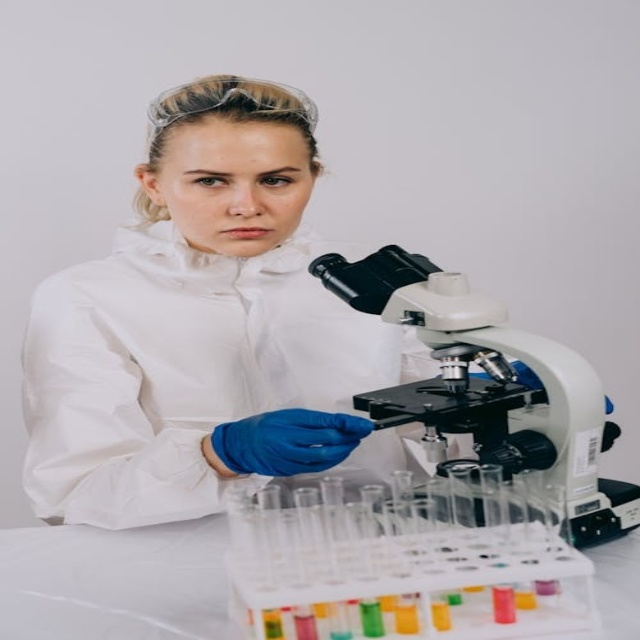Guantes: (205, 403, 378, 479)
Sin_gafas: (172, 160, 311, 196)
Sin_mascara: (211, 222, 276, 253)
